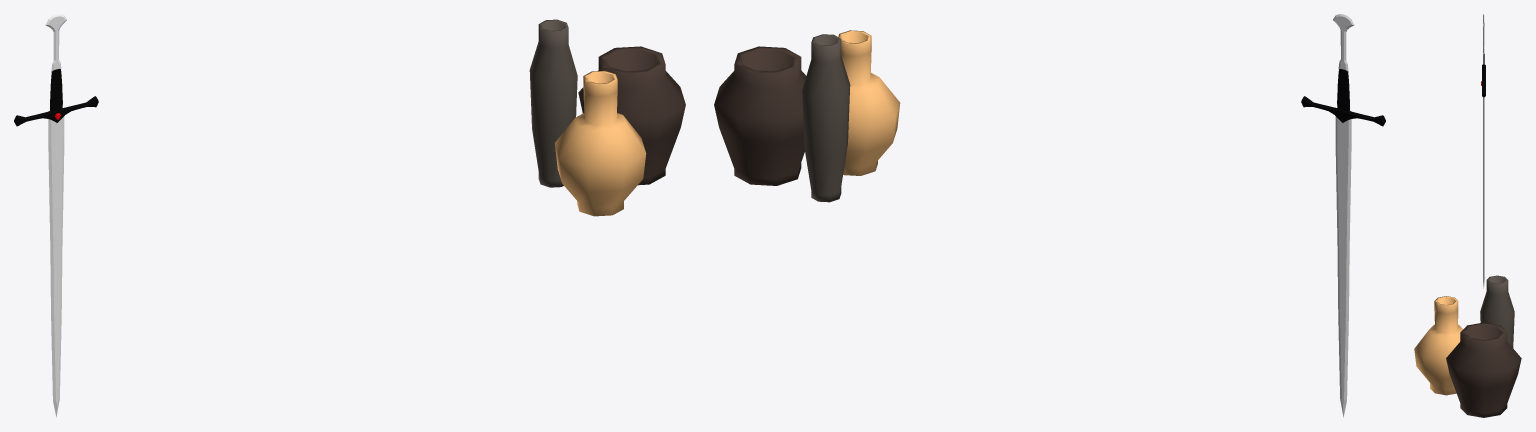
The model's file is sword.fbx.
The picture shows the model from 3 angles, left to right: view 1: azimuth 30°, elevation 25°; view 2: azimuth 150°, elevation 25°; view 3: azimuth 270°, elevation 25°; orthographic projection. The views are drawn at different scales.
Visible parts, largest first — view 1: 圆环.001, 圆环, 圆环.002, sword, sword.001; view 2: 圆环, 圆环.002, 圆环.001, sword, sword.001; view 3: 圆环, 圆环.001, 圆环.002, sword, sword.001.
Boxes of the visible parts, x1,y1,x2,y2 form: 圆环.001: (555, 70, 646, 216); 圆环: (578, 46, 685, 185); 圆环.002: (529, 19, 577, 187); sword: (48, 116, 64, 417); sword.001: (14, 69, 98, 126); 圆环: (714, 46, 806, 185); 圆环.002: (802, 34, 850, 202); 圆环.001: (838, 30, 900, 175); sword: (1335, 116, 1351, 417); sword.001: (1301, 69, 1385, 126); 圆环: (1446, 322, 1521, 417); 圆环.001: (1414, 296, 1463, 395); 圆环.002: (1480, 275, 1514, 347); sword: (1483, 97, 1484, 288); sword.001: (1482, 53, 1485, 97).
Bounding box in the file's own units: 660 × 382 × 136.
